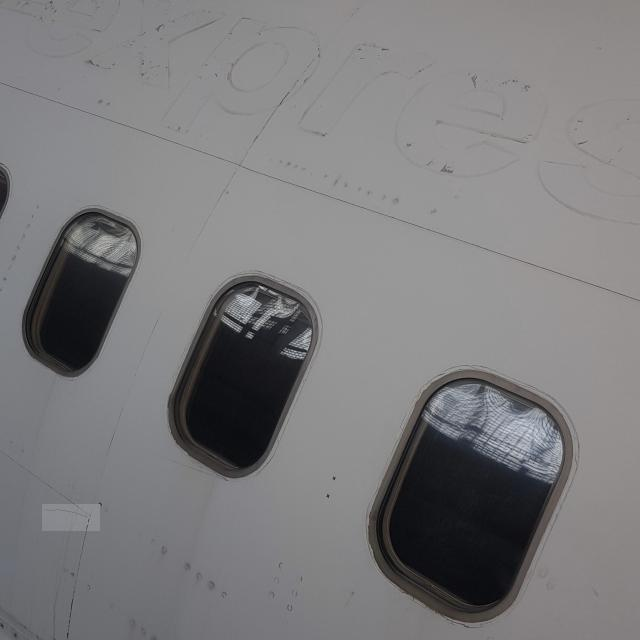crack: (43, 505, 101, 532)
